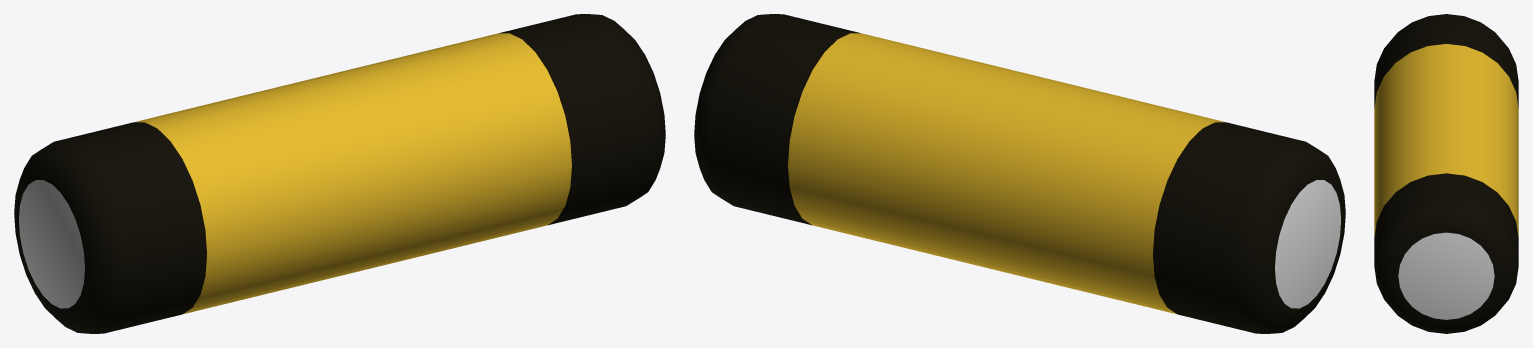
Rendered from Bateria.fbx.
3 views of the same model, side by side, from view 1: azimuth 30°, elevation 25°; view 2: azimuth 150°, elevation 25°; view 3: azimuth 270°, elevation 25° (orthographic). The views are drawn at different scales.
Visible parts, largest first — view 1: Pilha; view 2: Pilha; view 3: Pilha.
Boxes of the visible parts, left/top/right/bottom form: Pilha: left=14, top=14, right=665, bottom=333; Pilha: left=694, top=14, right=1345, bottom=333; Pilha: left=1374, top=14, right=1518, bottom=333.
Bounding box in the file's own units: 239 × 71.23 × 71.23.
